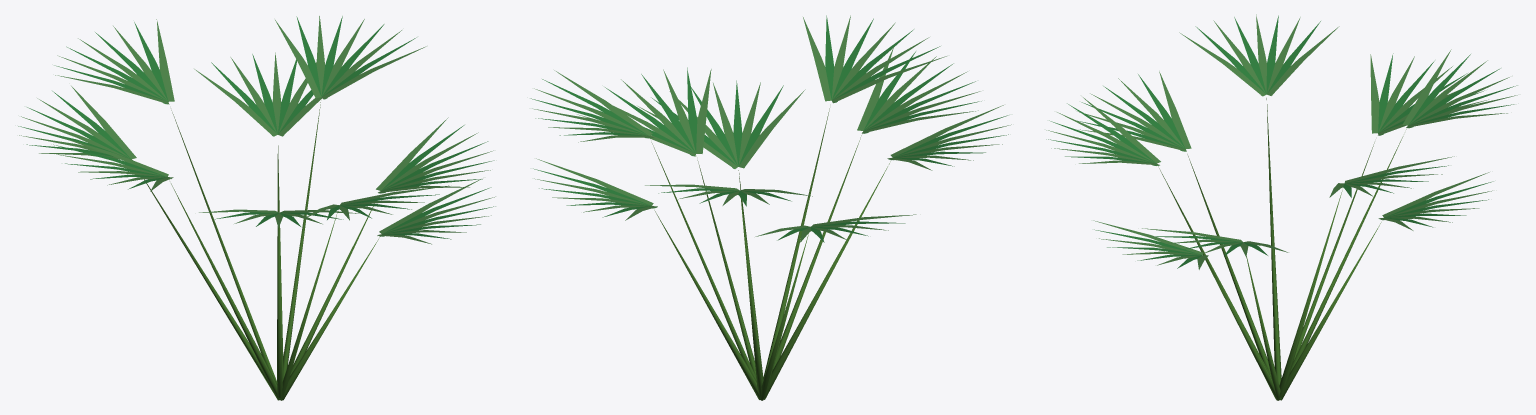
Rendered from plant_palmetto-a.glb.
3 renders of one model, left to right at view 1: azimuth 30°, elevation 25°; view 2: azimuth 150°, elevation 25°; view 3: azimuth 270°, elevation 25°, orthographic. The views are drawn at different scales.
Parts seen in each view (by area): view 1: plant_palmetto-a; view 2: plant_palmetto-a; view 3: plant_palmetto-a.
Part boxes in pixels (x1,y1,x2,y2): plant_palmetto-a: [18, 16, 495, 400]; plant_palmetto-a: [530, 15, 1011, 400]; plant_palmetto-a: [1046, 14, 1517, 400].
Size of the model in its own units: 0.8608 by 0.6 by 0.9117.
